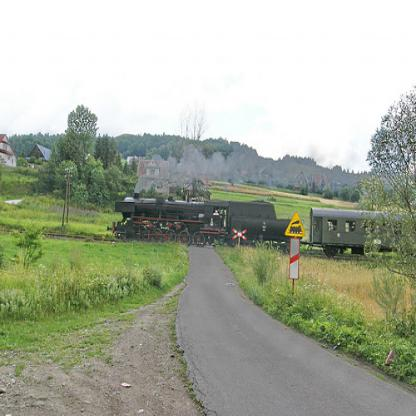train: (107, 193, 415, 257)
